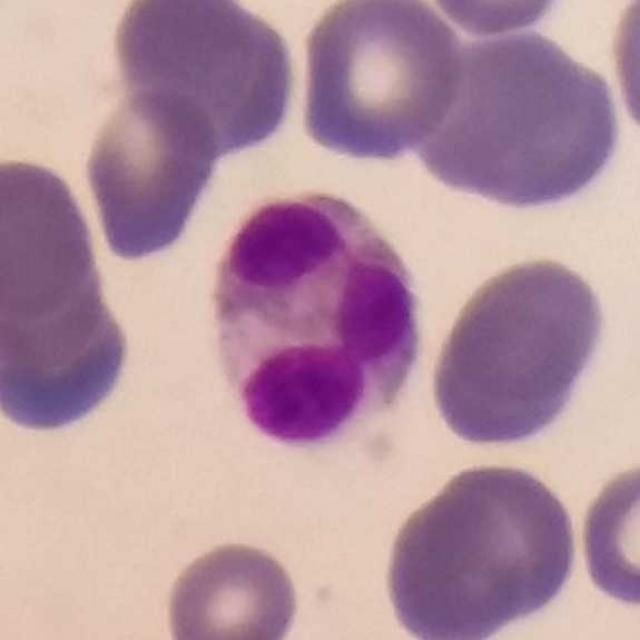eosino: (213, 190, 420, 451)
